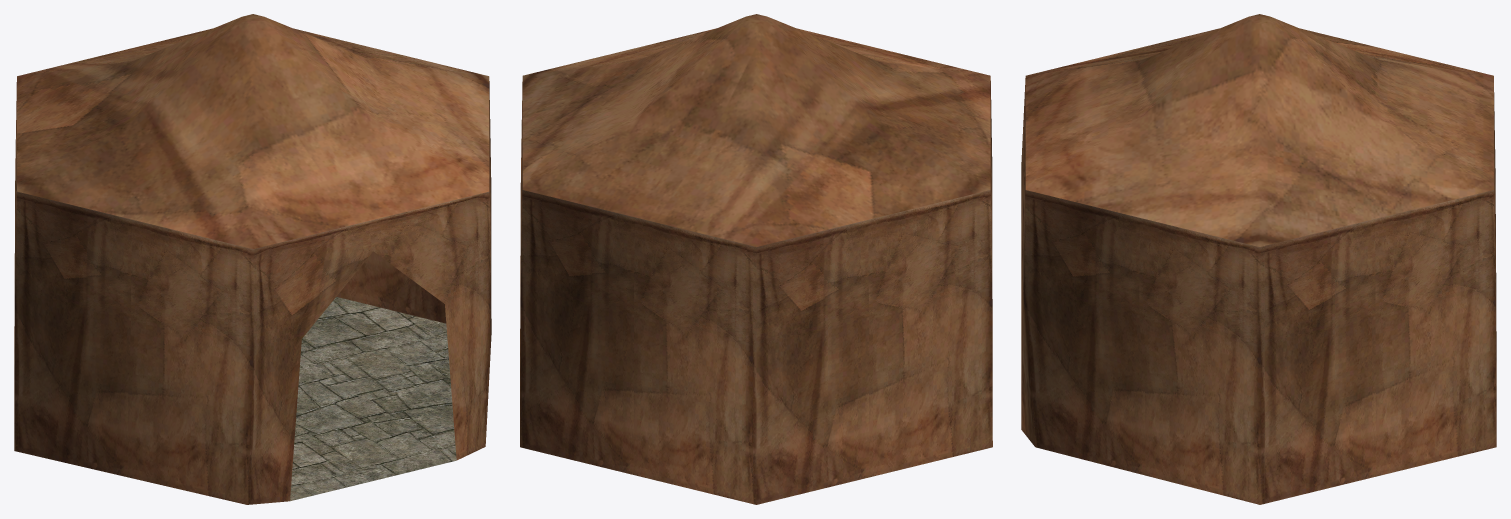
The model's file is ply_tato_merchant_tent_s01_r1_mesh_r1.fbx.
3 views of the same model, side by side, from view 1: azimuth 30°, elevation 25°; view 2: azimuth 150°, elevation 25°; view 3: azimuth 270°, elevation 25° (orthographic).
Visible parts, largest first — view 1: mesh_node; view 2: mesh_node; view 3: mesh_node.
Boxes of the visible parts, x1,y1,x2,y2 form: mesh_node: [14, 14, 491, 504]; mesh_node: [520, 14, 992, 504]; mesh_node: [1021, 14, 1496, 504].
Size of the model in its own units: 6.66 by 4.98 by 5.79.
